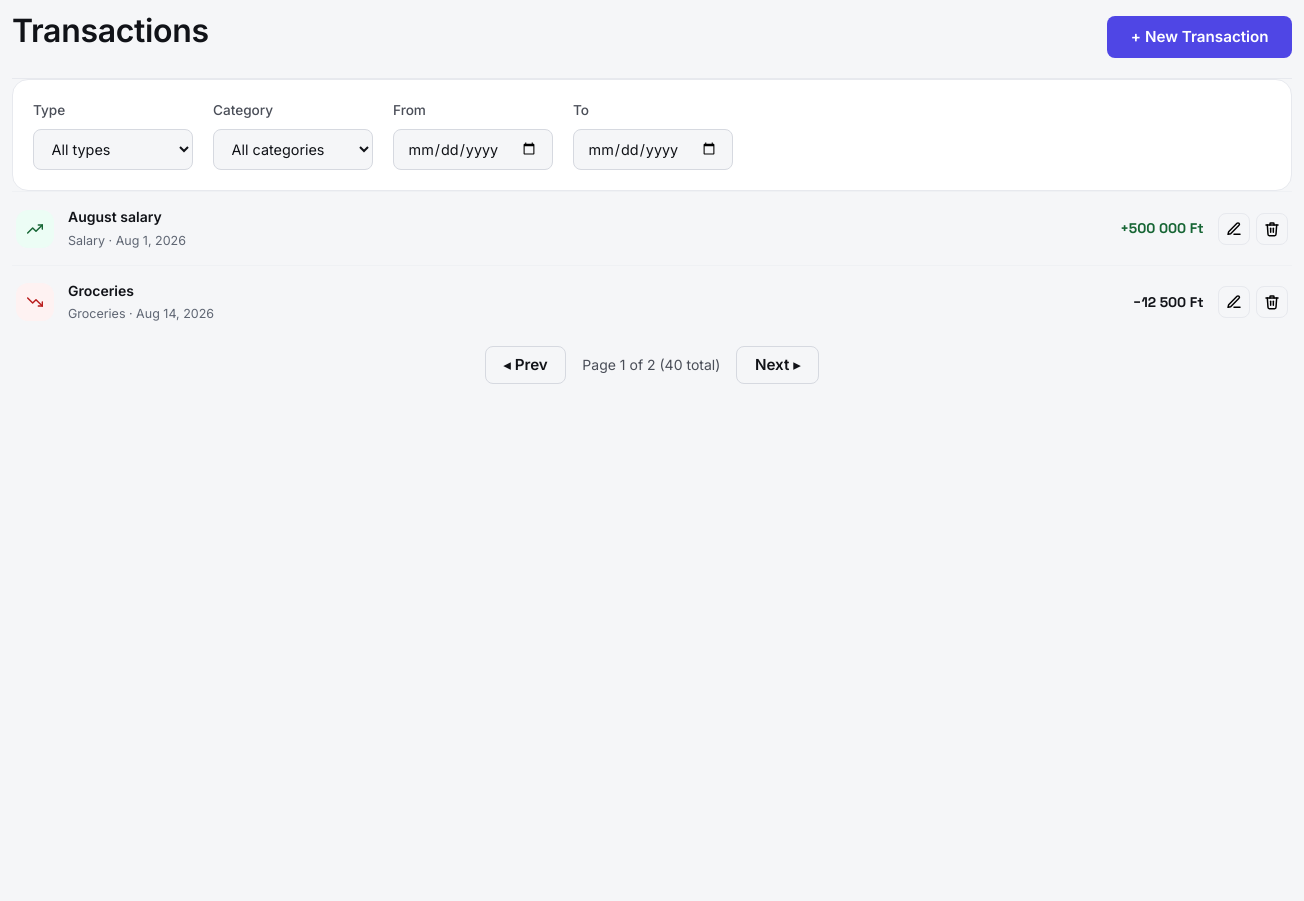
TransactionsTab › creates a transaction with a typed numeric payload, closes the form, shows success, and resets to page 0 from a later page
Click the button "Next ▸".
click(778, 365)  # box [736,346,819,384]
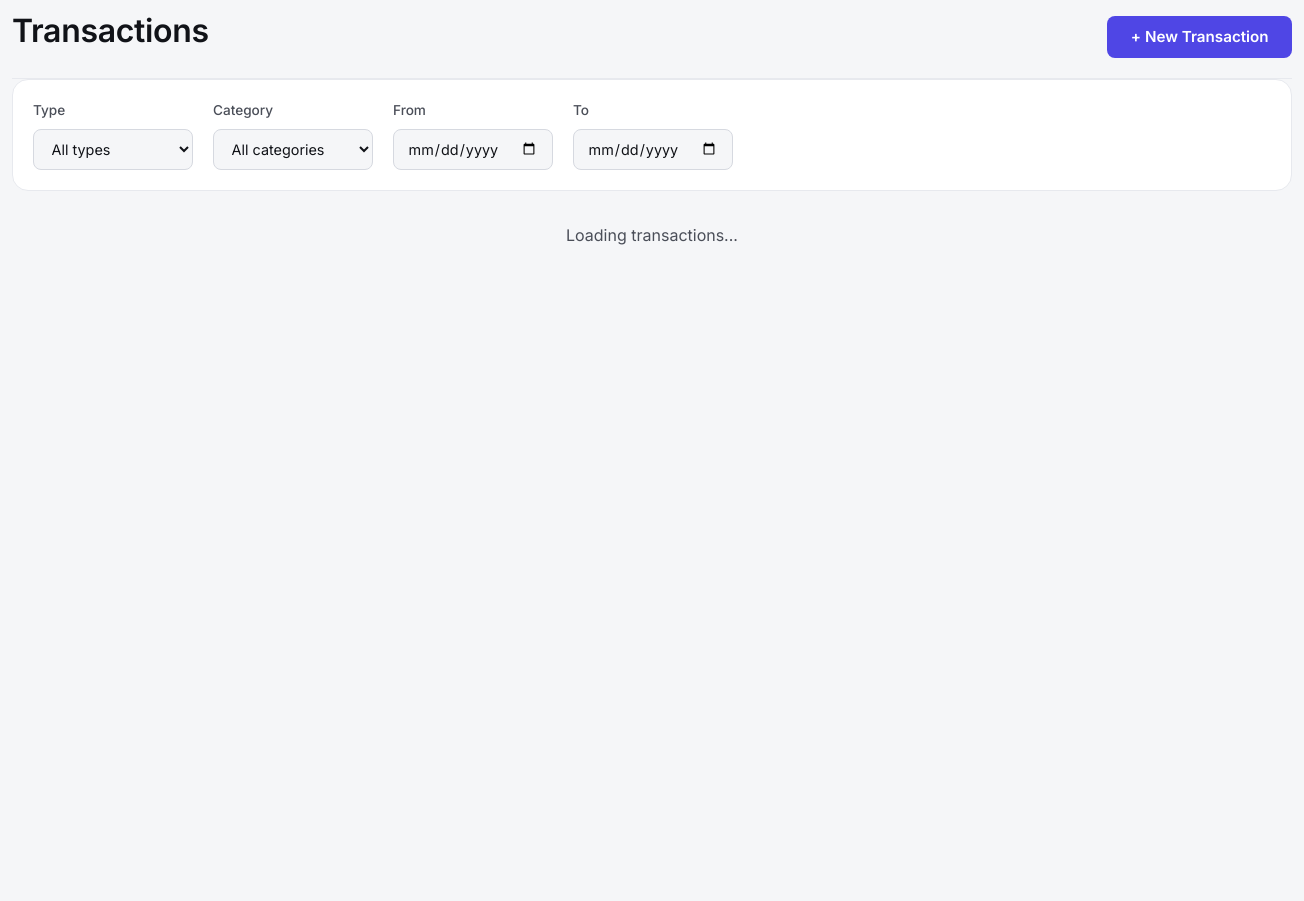
Click the button "+ New Transaction".
click(1200, 37)  # box [1108,16,1292,58]
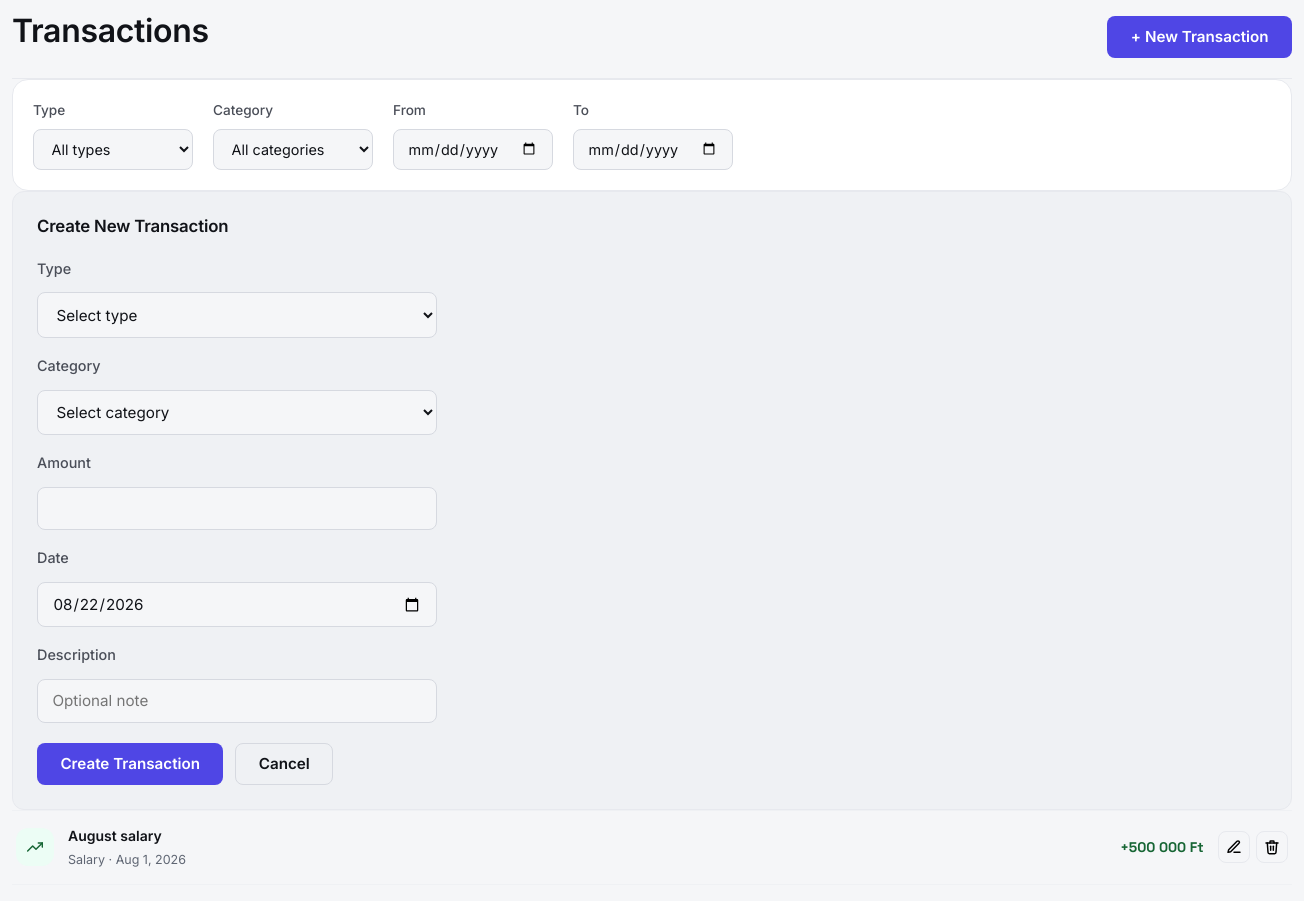
Select "Expense" in the dropdown labelled "Type" below "Create New Transaction" at (237, 315), box [37,292,437,338]
Select "Groceries" in the dropdown labelled "Category" below "Create New Transaction" at (237, 412), box [37,390,437,435]
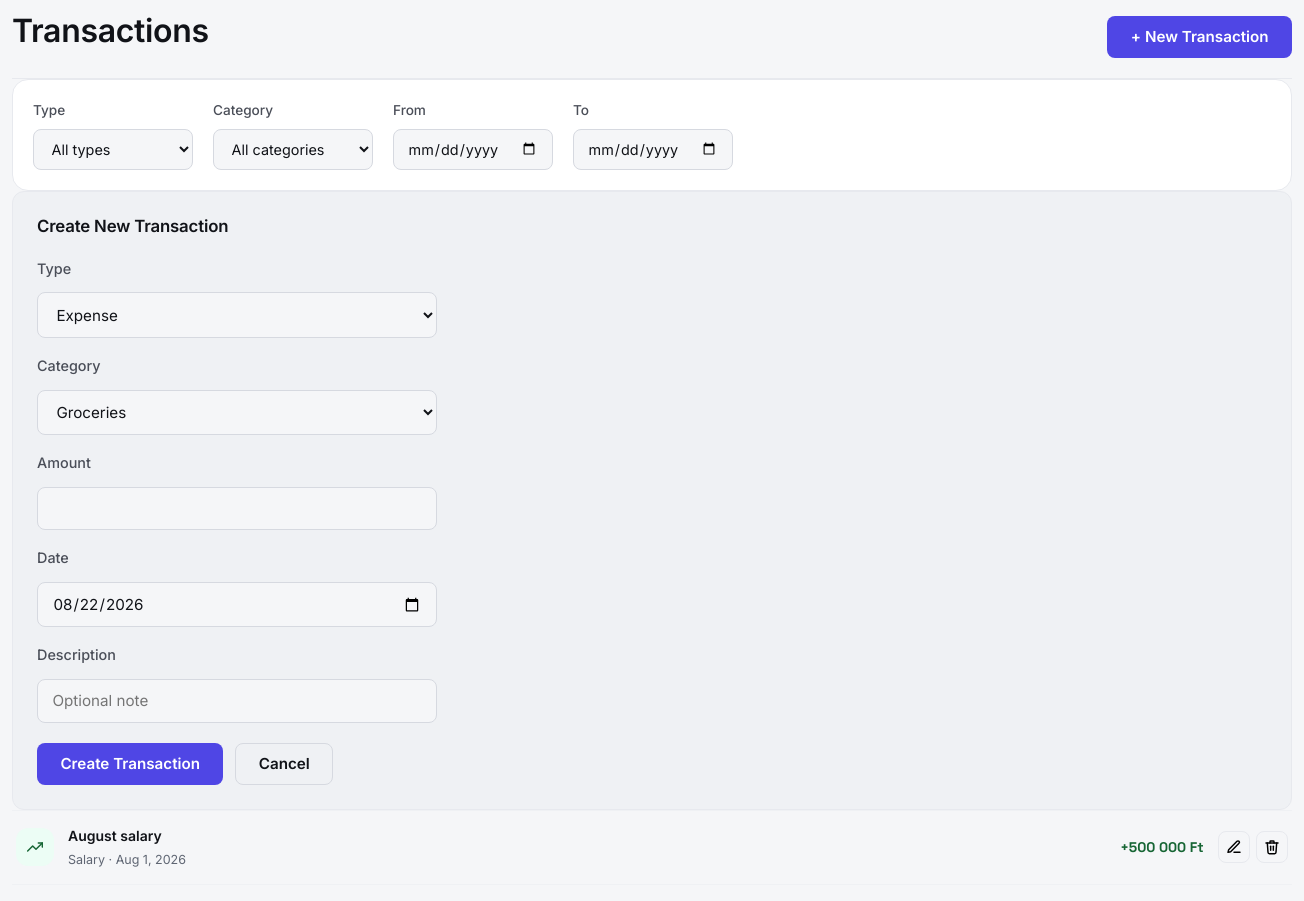
Type "250.5" into the number field labelled "Amount".
click(237, 508); type("250.5")  # box [37,487,437,530]
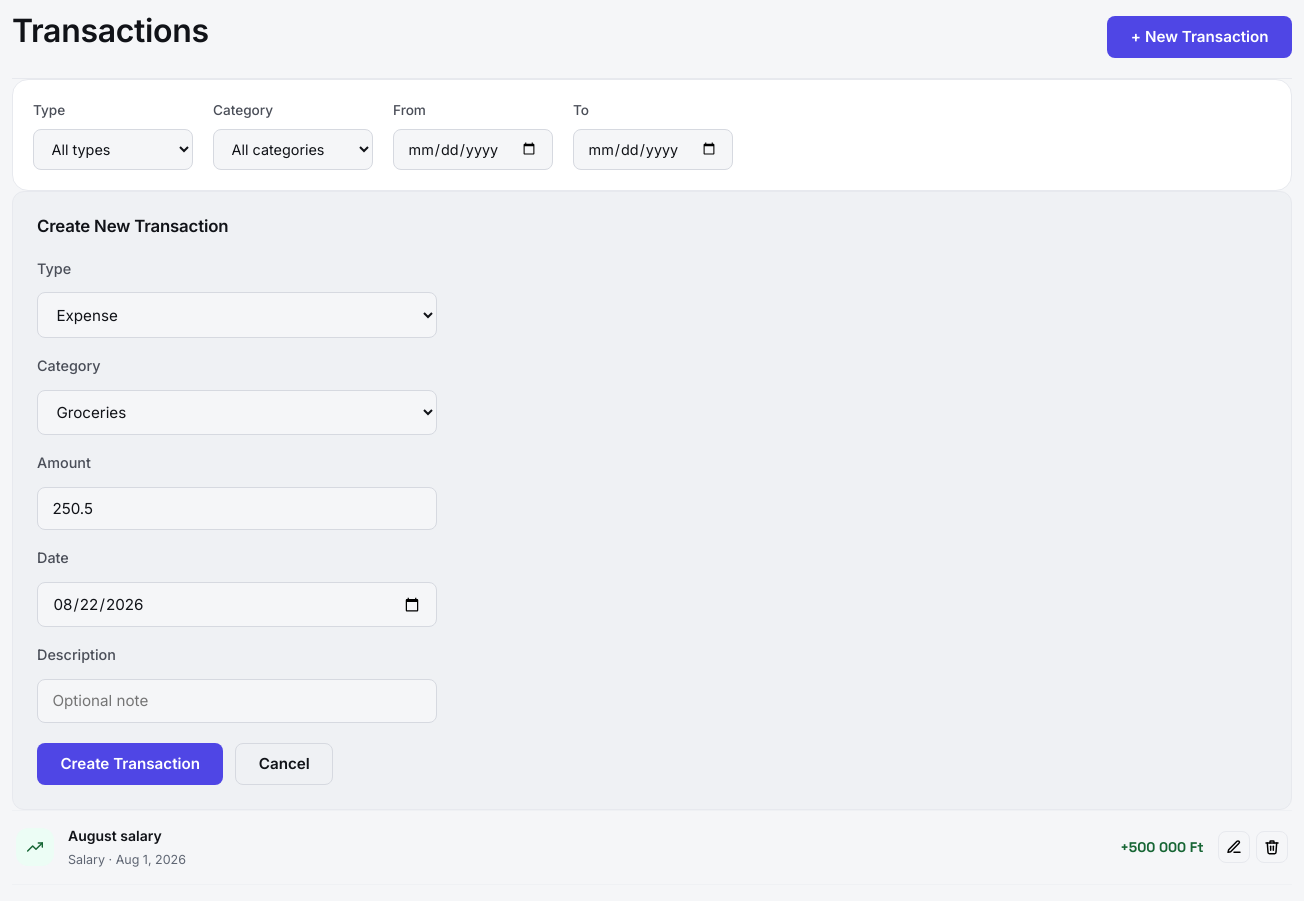
Type "2026-08-15" into the date field labelled "Date".
click(237, 605); type("2026-08-15")  # box [37,582,437,627]
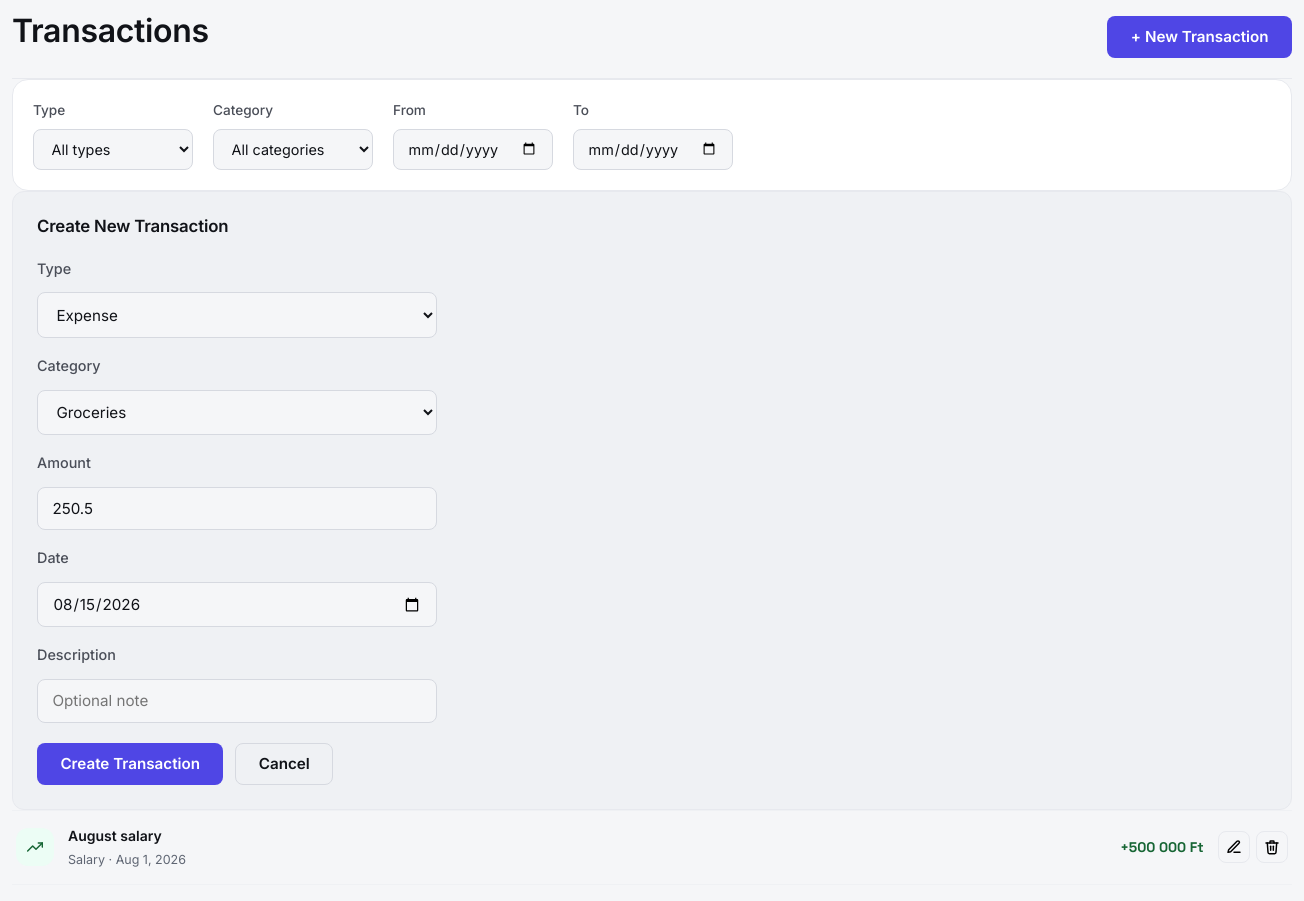
Click the button "Create Transaction".
click(130, 764)  # box [37,742,223,785]
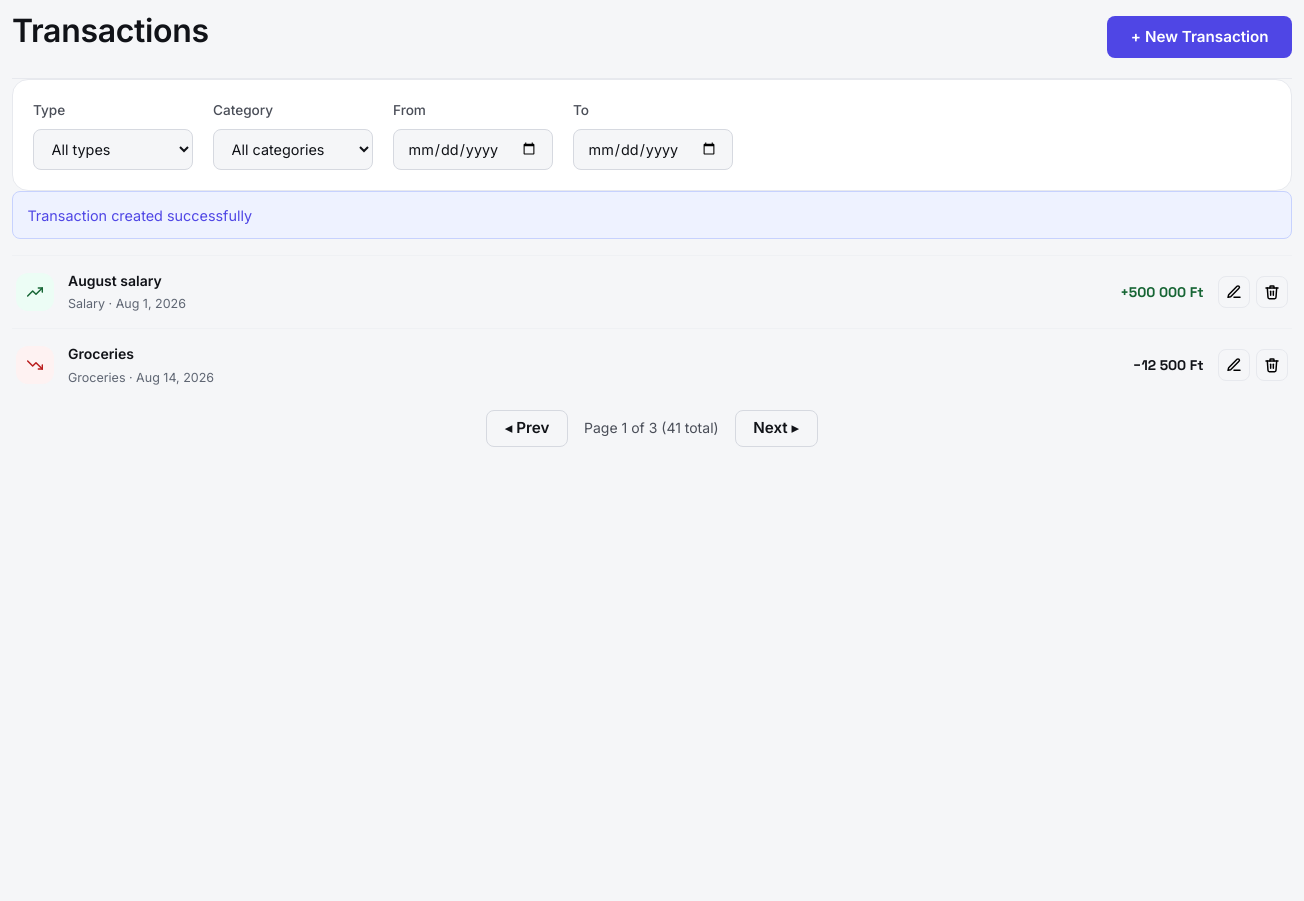
Expected: the heading "Create New Transaction" is gone
